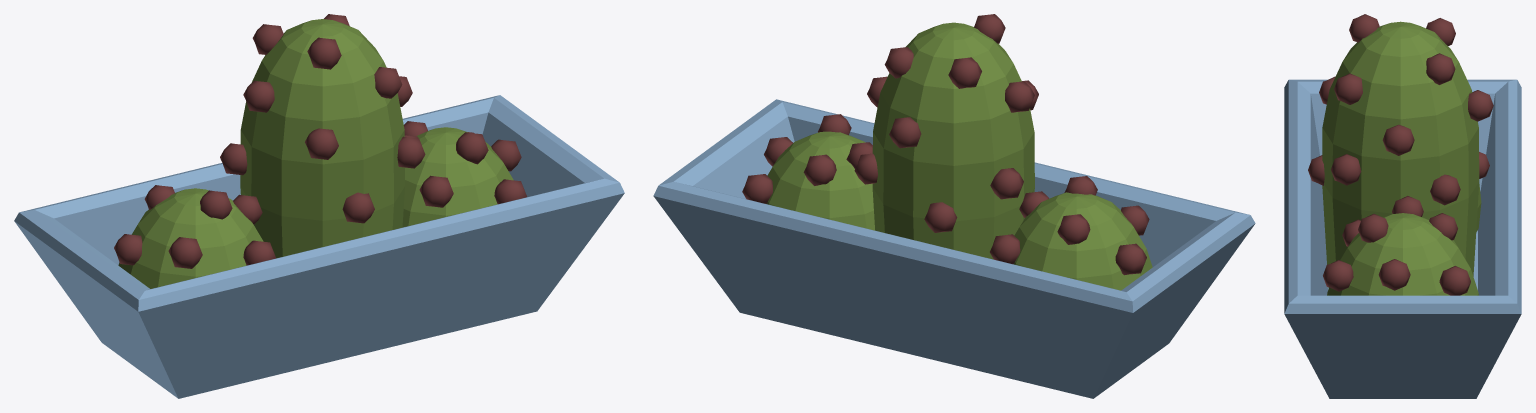
The model's file is MOD_Maceta01.fbx.
3 renders of one model, left to right at view 1: azimuth 30°, elevation 25°; view 2: azimuth 150°, elevation 25°; view 3: azimuth 270°, elevation 25°, orthographic. The views are drawn at different scales.
Parts seen in each view (by area): view 1: Maceta, Arbusto, Frutos; view 2: Maceta, Arbusto, Frutos; view 3: Maceta, Arbusto, Frutos.
Part boxes in pixels (x1,y1,x2,y2): Maceta: (14, 95, 624, 398); Arbusto: (118, 19, 513, 288); Frutos: (114, 14, 526, 268); Maceta: (653, 99, 1255, 398); Arbusto: (766, 22, 1152, 290); Frutos: (742, 14, 1149, 275); Maceta: (1284, 79, 1521, 398); Arbusto: (1322, 21, 1481, 295); Frutos: (1308, 14, 1493, 295).
Size of the model in its own units: 0.2933 by 0.1768 by 0.1297.
